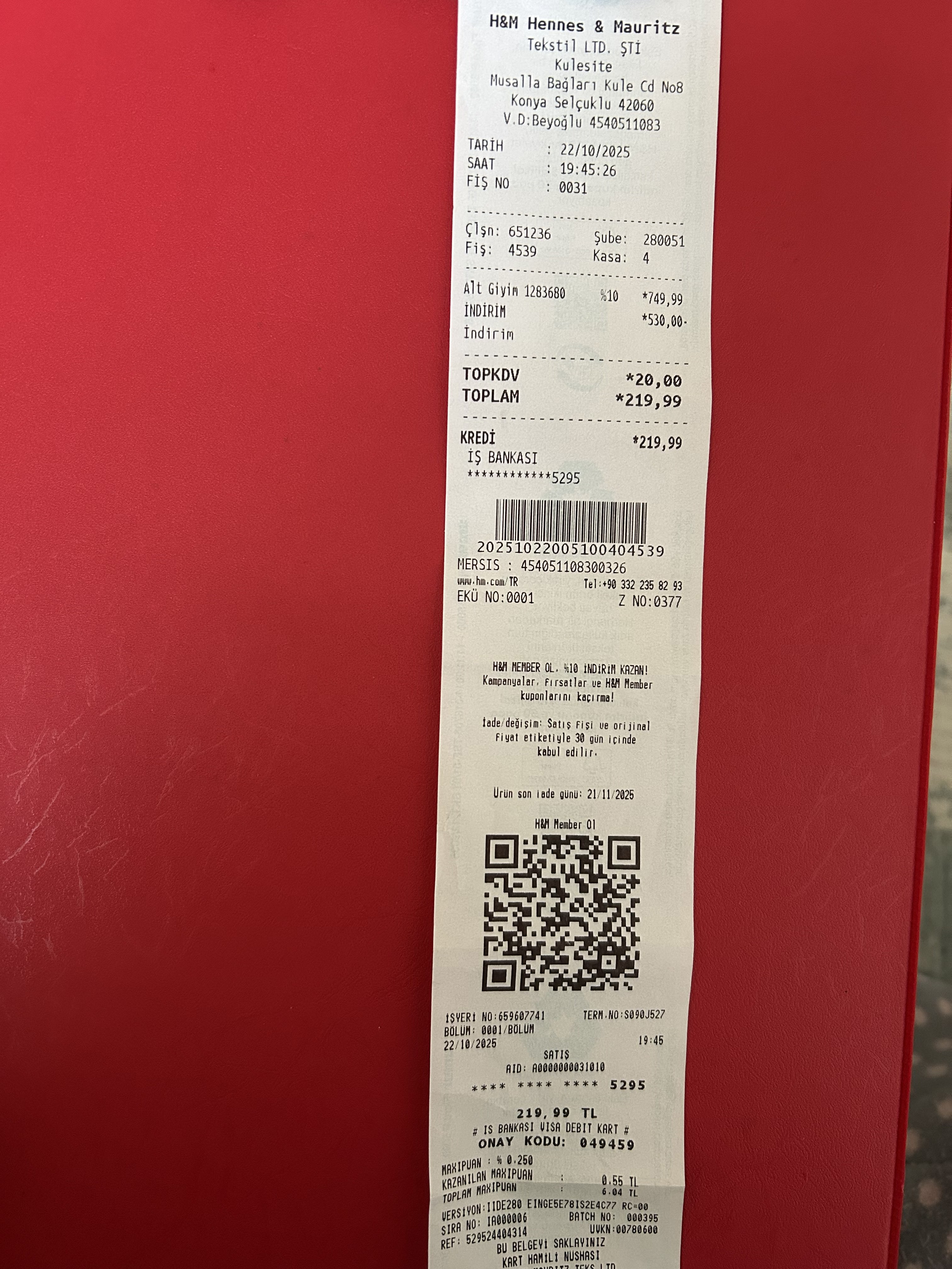date: (621, 387, 689, 415)
price: (559, 138, 632, 162)
workplace: (476, 6, 698, 114)
